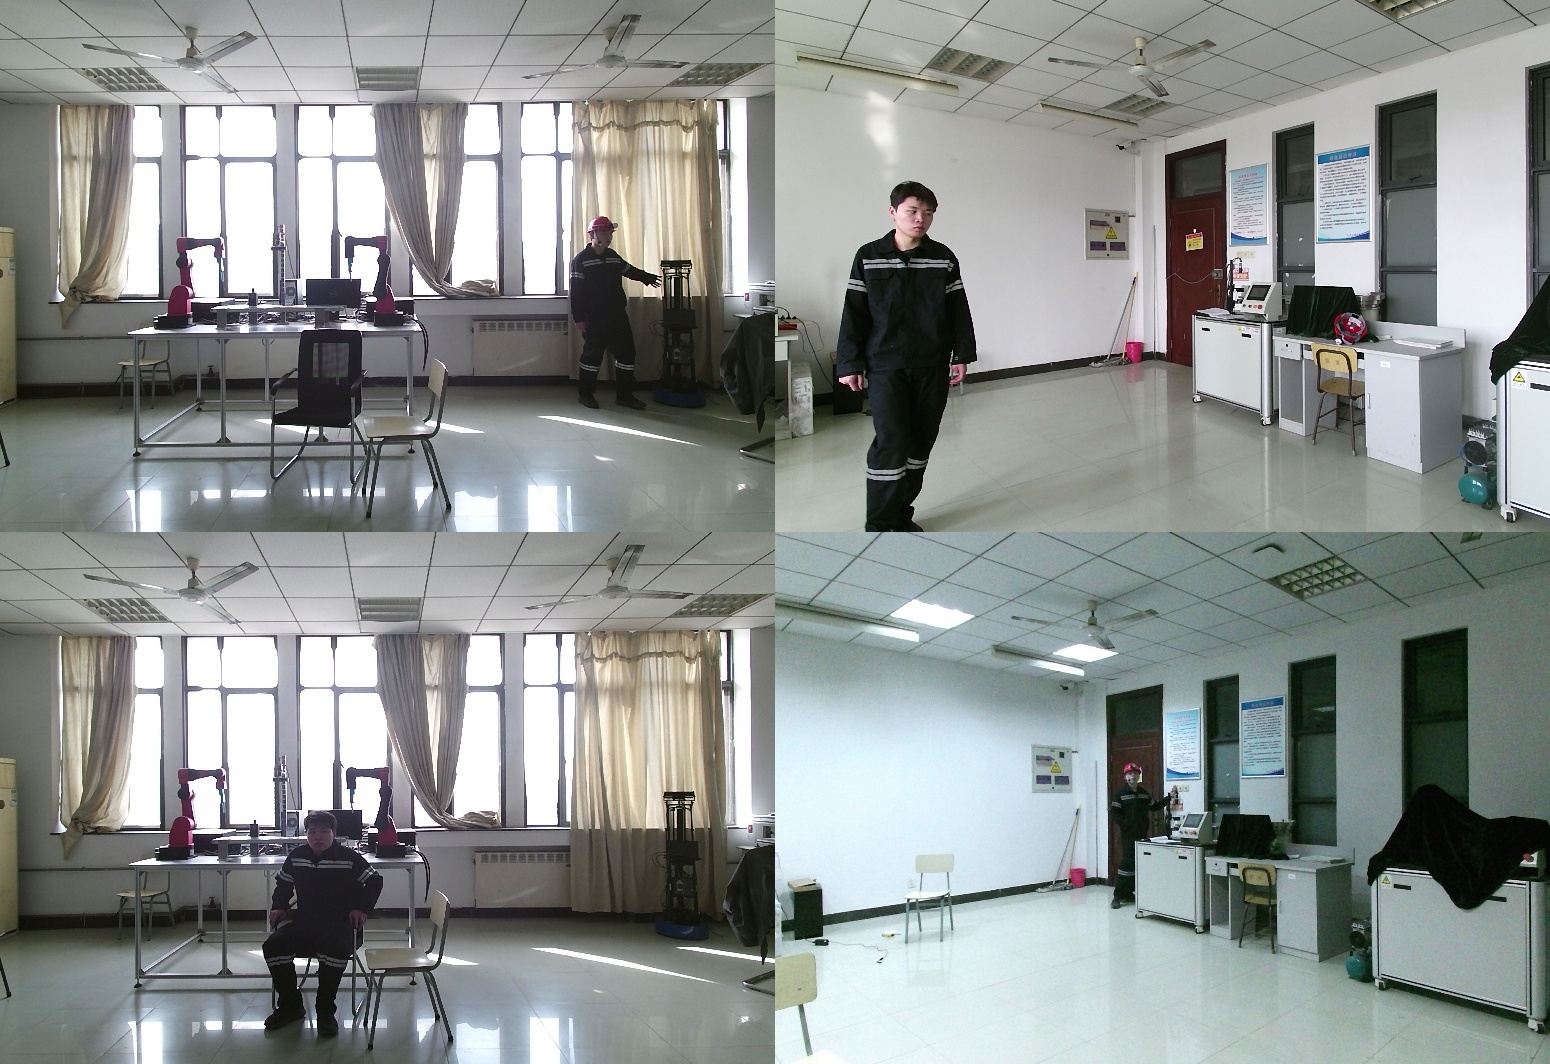person: (833, 183, 974, 532), (264, 812, 390, 1036), (568, 215, 662, 415), (1107, 763, 1170, 912)
